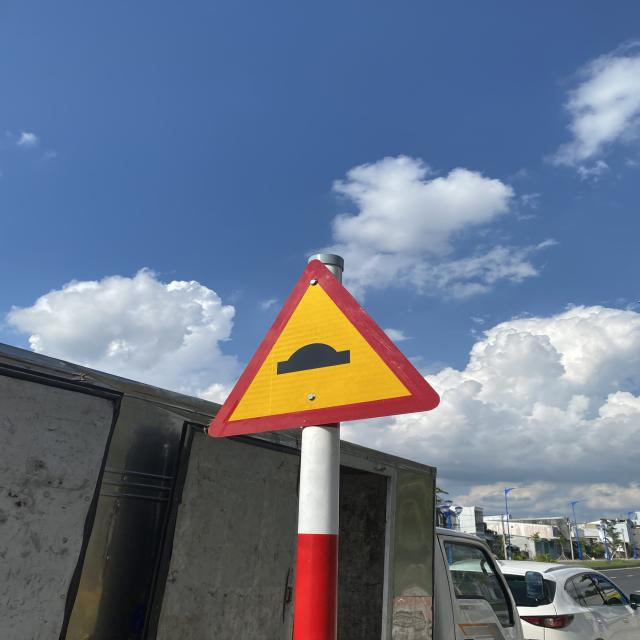Duong_Cong_Ben_Phai: (205, 258, 448, 436)
